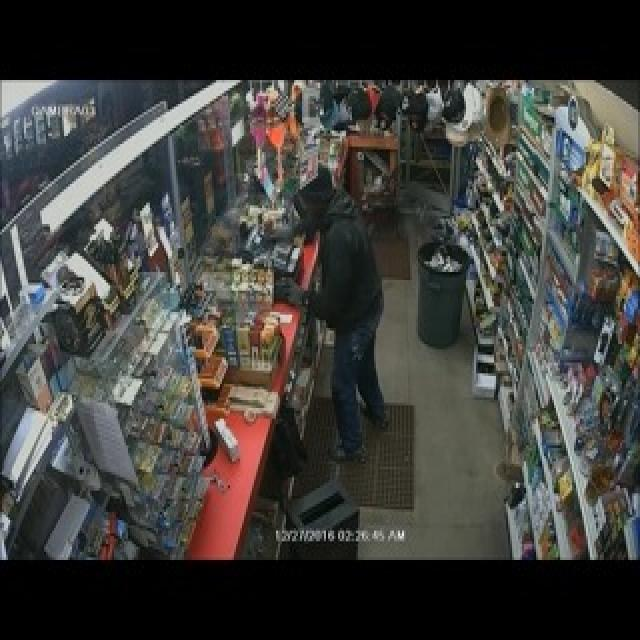thief: (284, 174, 394, 406)
